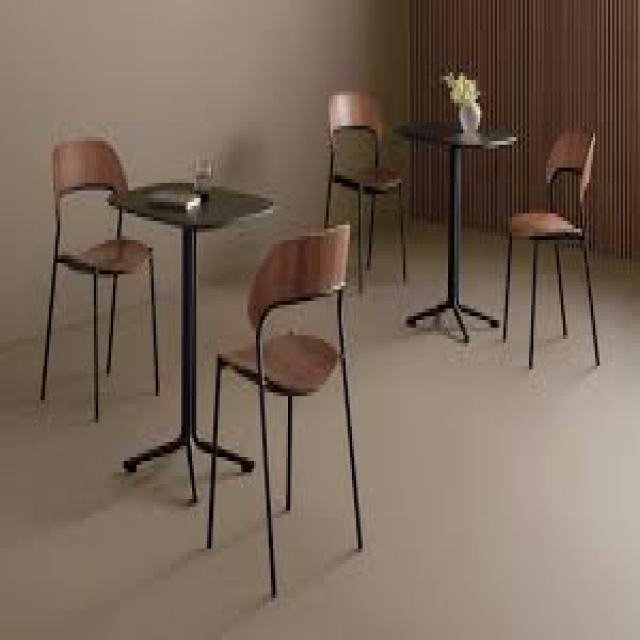chair: (198, 182, 372, 640), (21, 109, 177, 476), (478, 81, 628, 425), (292, 70, 432, 356)
